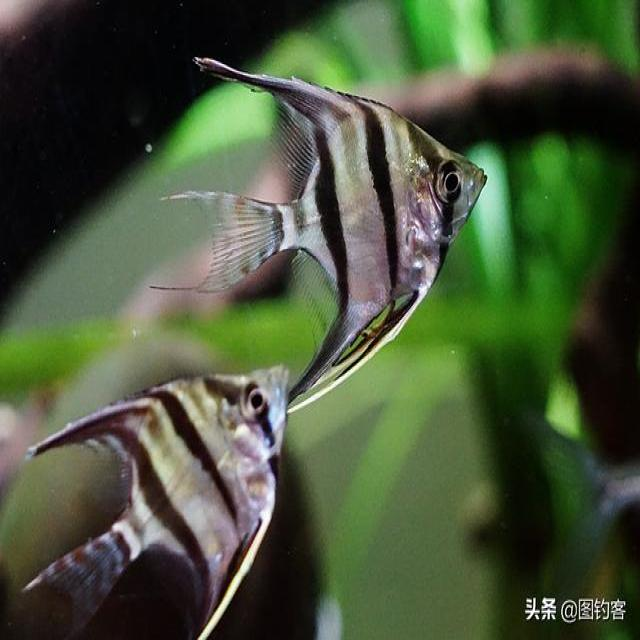AngelFish: (194, 50, 488, 403), (25, 368, 293, 634)
